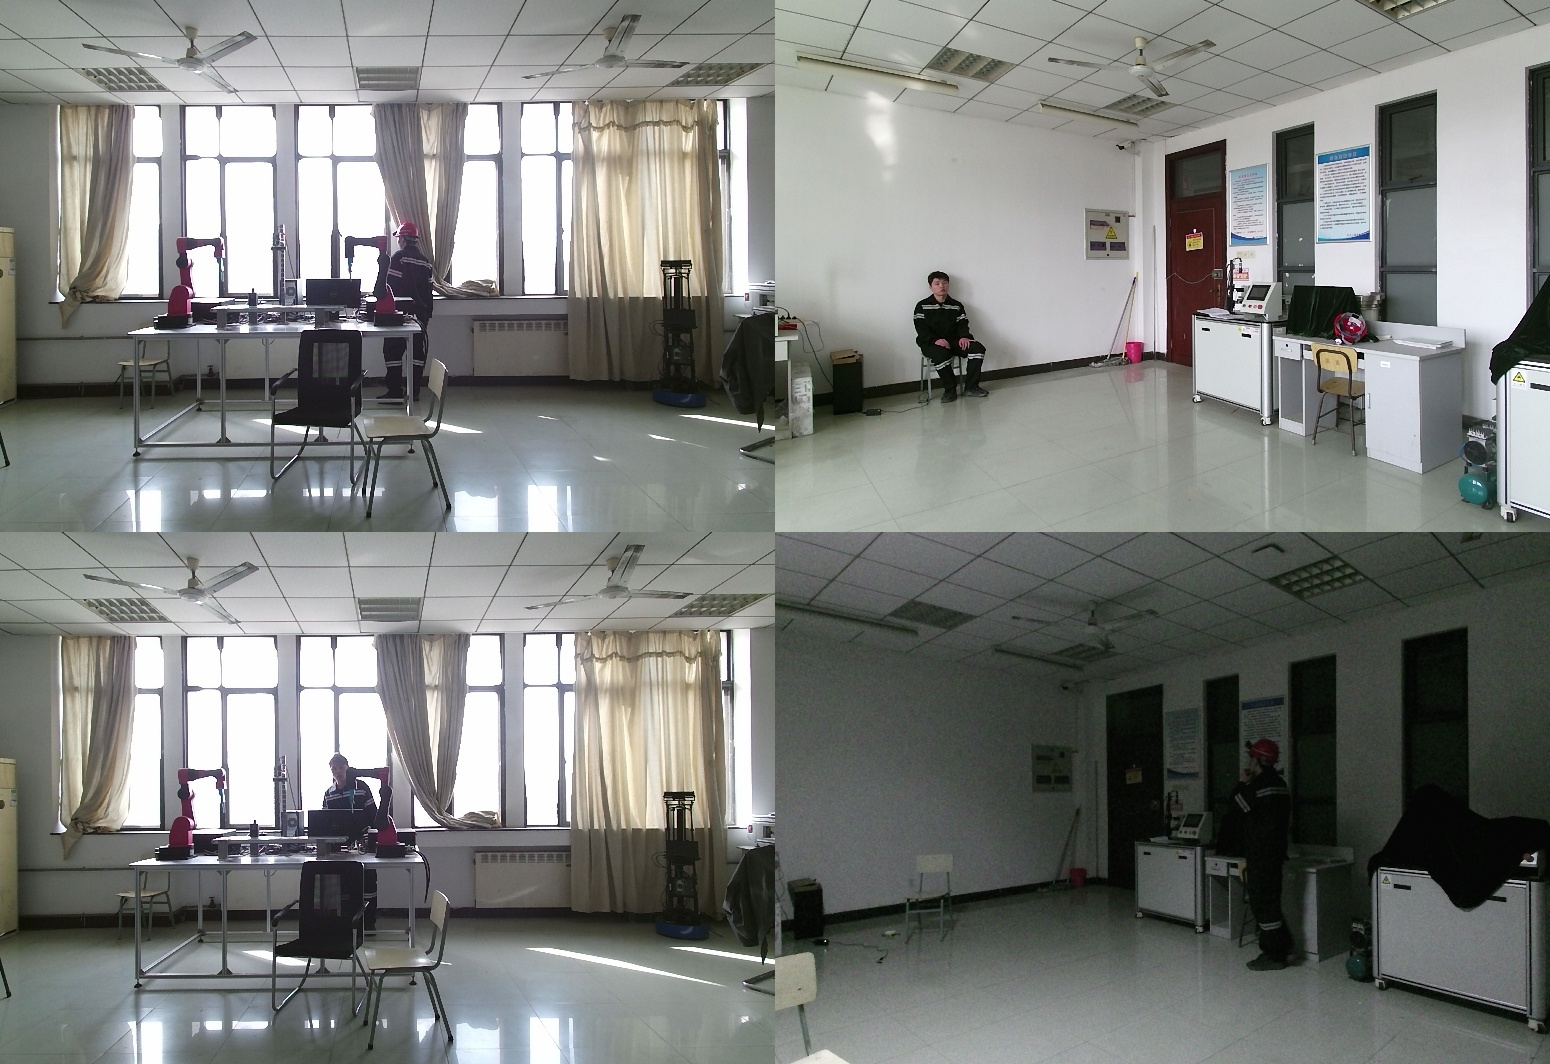person: (1224, 740, 1301, 972), (315, 755, 381, 935), (373, 224, 437, 402), (910, 270, 987, 405)
